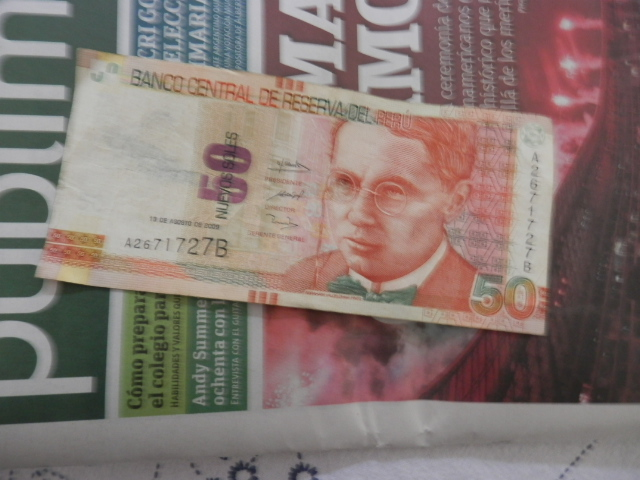B50: (68, 44, 549, 346)
